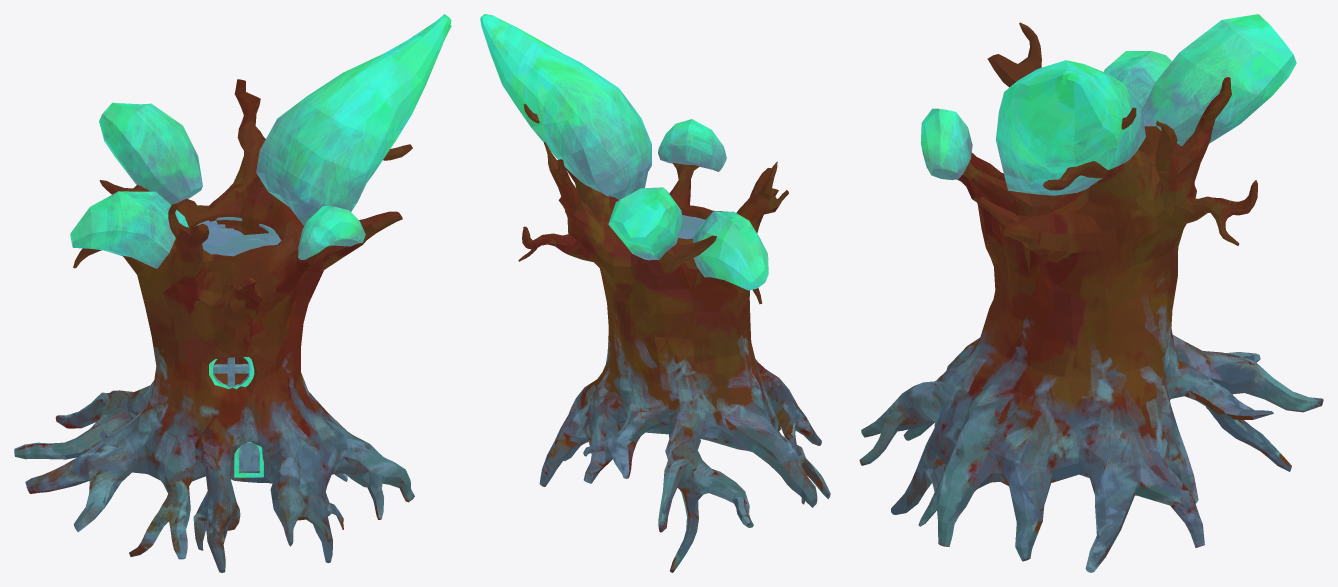
File: beaverhousefinal.glb
The picture shows the model from 3 angles, left to right: view 1: azimuth 30°, elevation 25°; view 2: azimuth 150°, elevation 25°; view 3: azimuth 270°, elevation 25°; orthographic projection. The views are drawn at different scales.
Visible parts, largest first — view 1: Beaver_House_Retopology, Beaver_House_Foliage_Retopology, Beaver_House_Misc; view 2: Beaver_House_Retopology, Beaver_House_Foliage_Retopology; view 3: Beaver_House_Retopology, Beaver_House_Foliage_Retopology.
Boxes of the visible parts, box(x1,y1,x2,y2) form: Beaver_House_Retopology: box(14, 79, 414, 572); Beaver_House_Foliage_Retopology: box(70, 14, 451, 268); Beaver_House_Misc: box(196, 217, 281, 477); Beaver_House_Retopology: box(518, 104, 830, 572); Beaver_House_Foliage_Retopology: box(480, 14, 768, 290); Beaver_House_Retopology: box(859, 22, 1323, 572); Beaver_House_Foliage_Retopology: box(920, 14, 1296, 195).
Bounding box in the file's own units: 12.49 × 14.09 × 10.36.
Materials: 3 (3 with a texture image).
